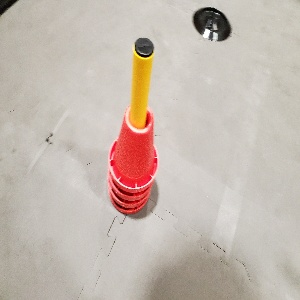Red_4: (106, 102, 160, 219)
